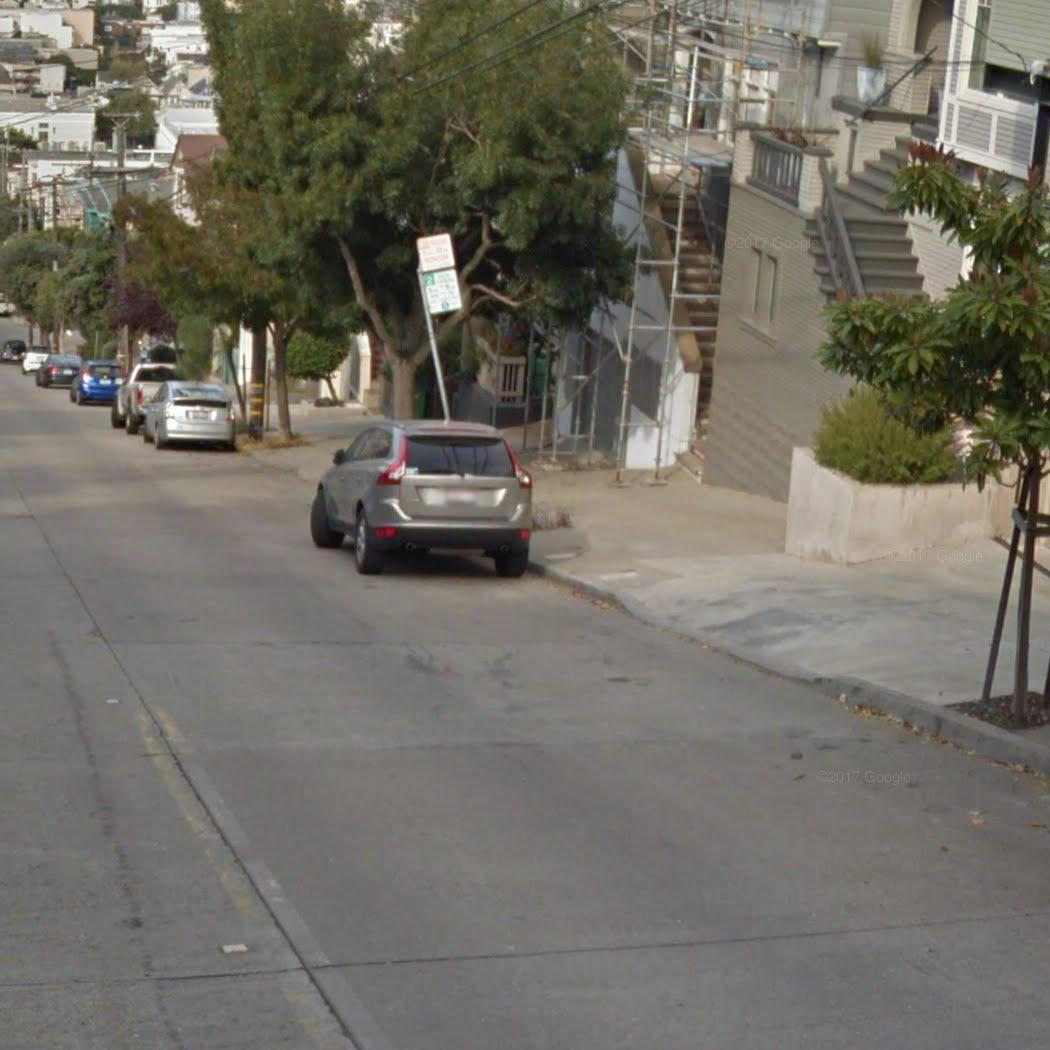2 Hour Parking: (421, 268, 464, 314)
No Parking: (415, 232, 456, 274)
